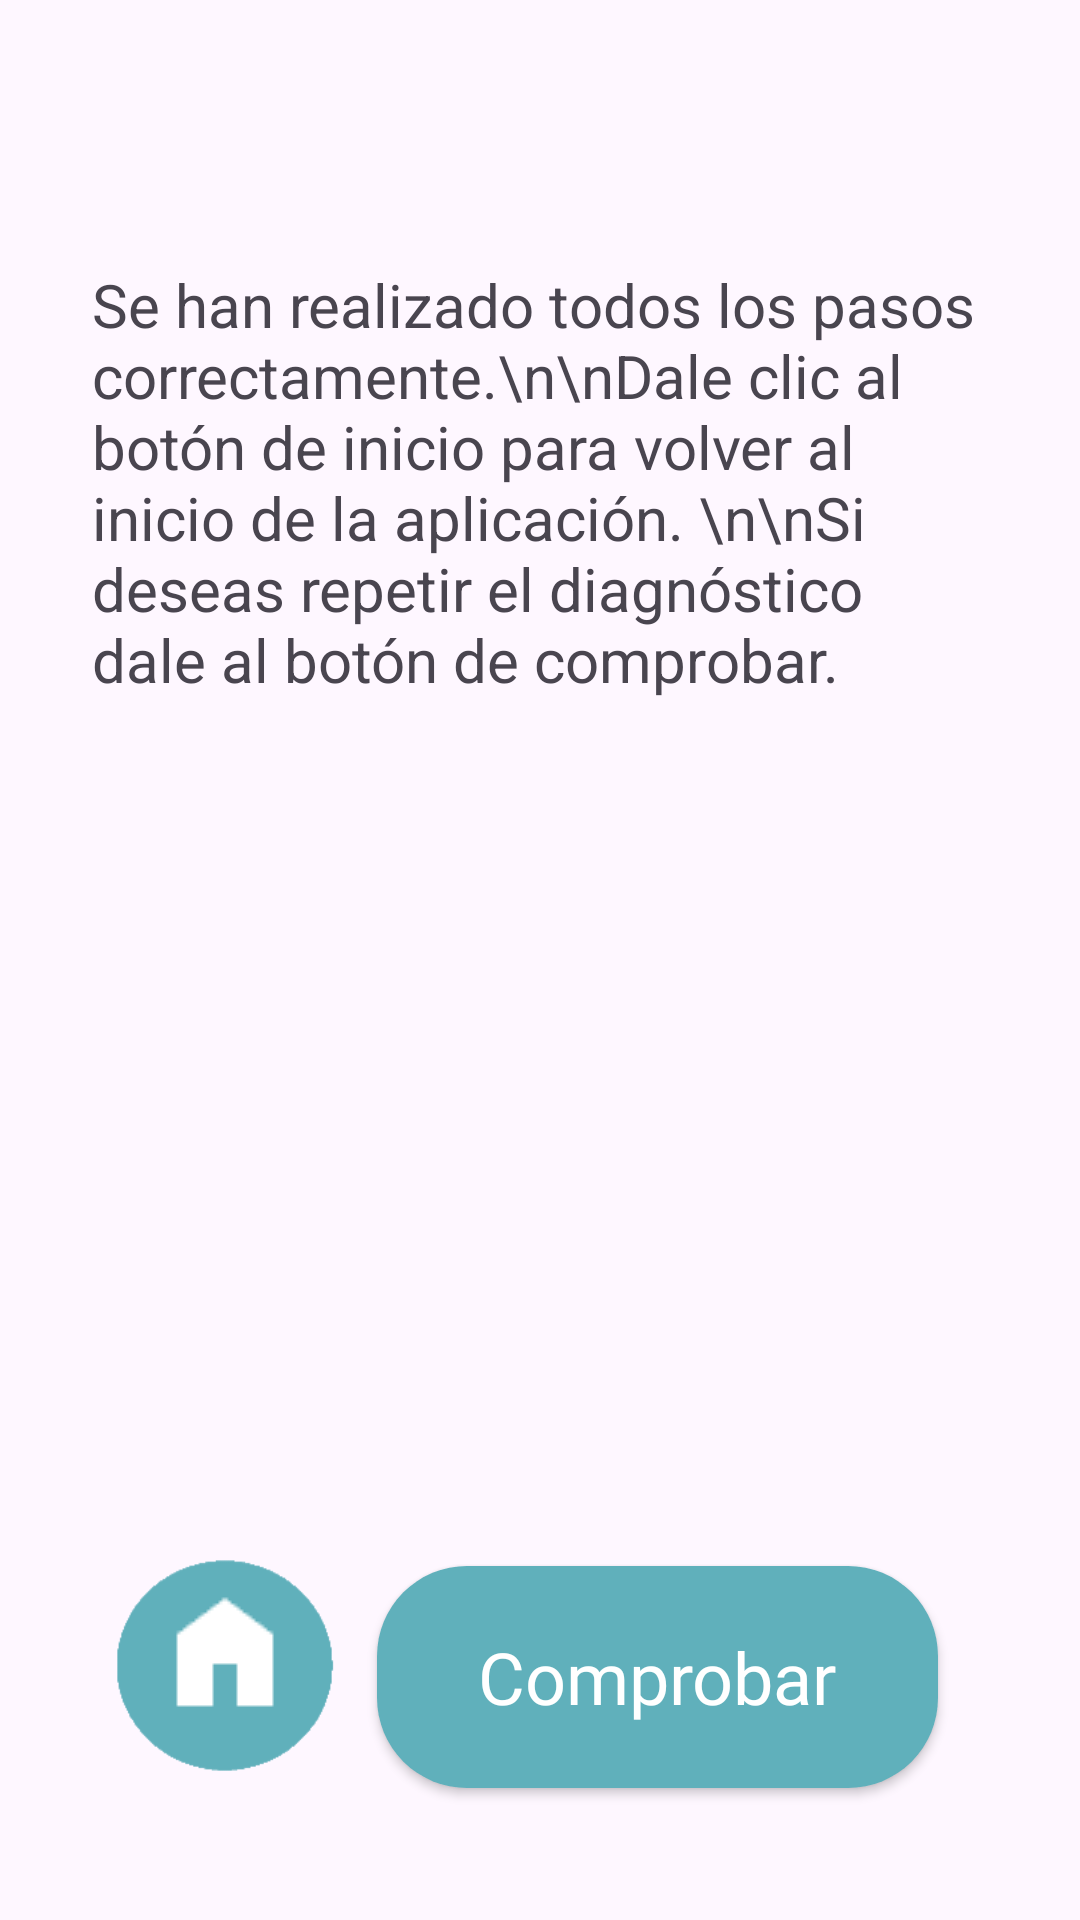

Icons on this 1080x1920 Android screen, each with its box as bbox=[x1, y1, x2, y2]:
inicio relleno: bbox=[117, 1560, 333, 1771]
